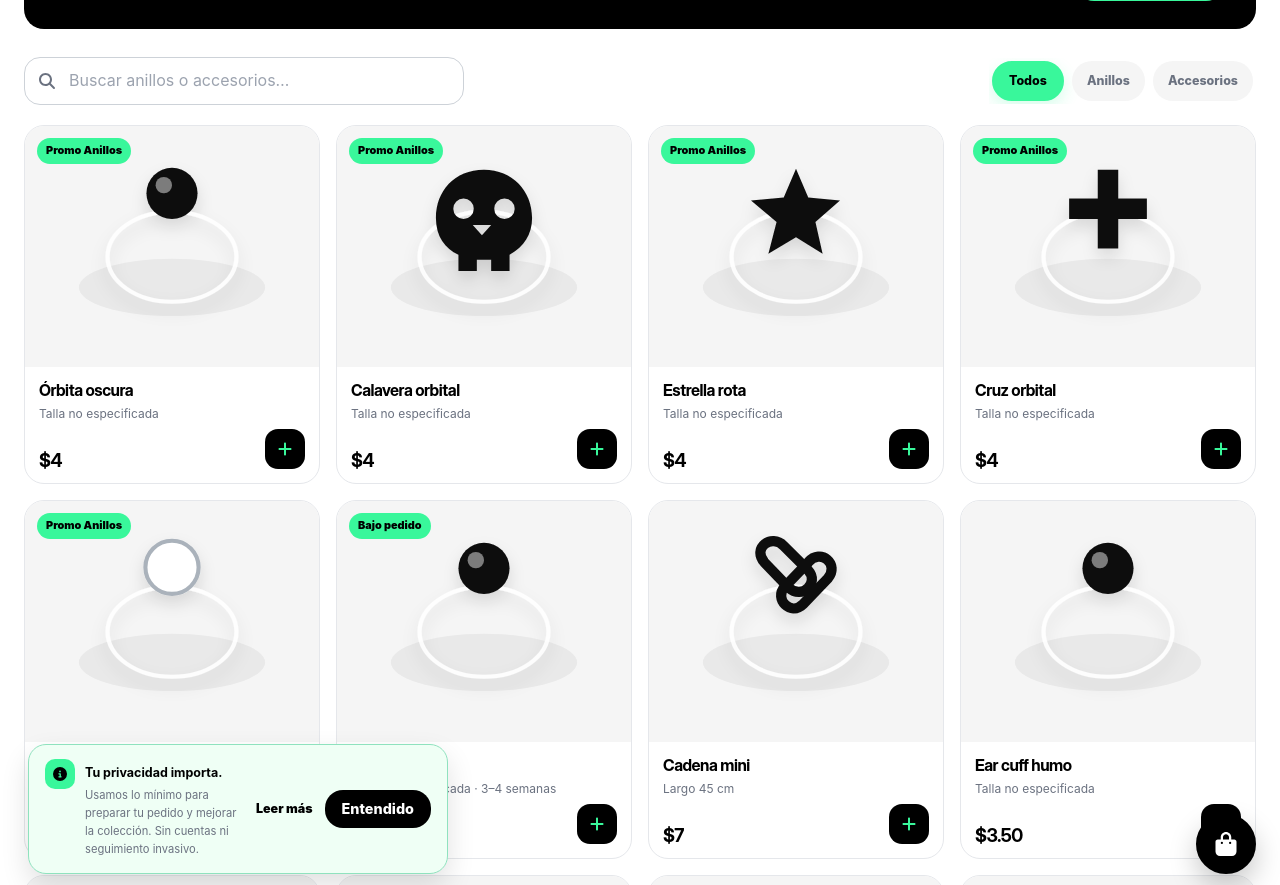
Store › clears the cart from the compact header action
(page scrolled)
Click the button named "agregar órbita oscura" at (285, 449), box [265, 429, 305, 469]
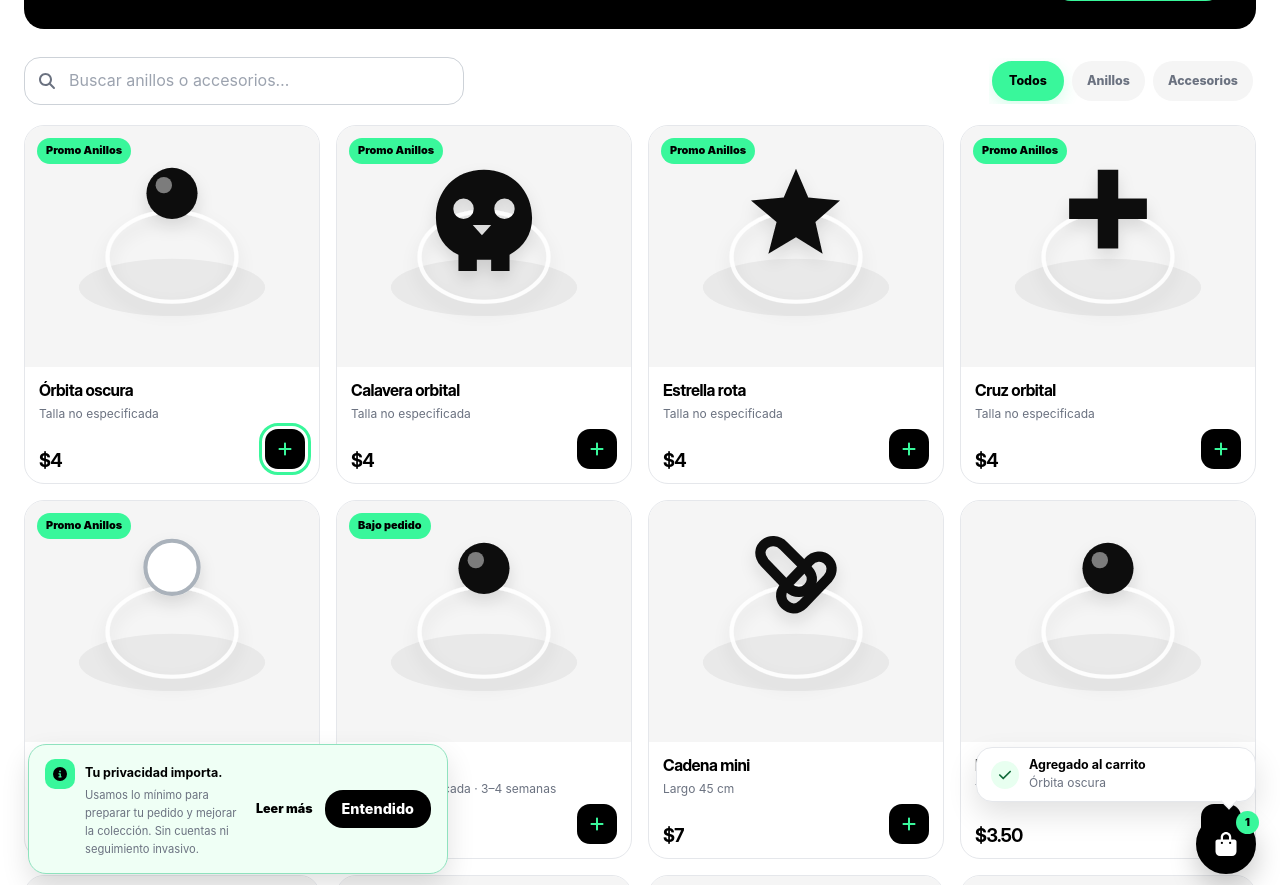
Click the button named "Abrir carrito" at (1226, 844), box [1196, 814, 1256, 874]
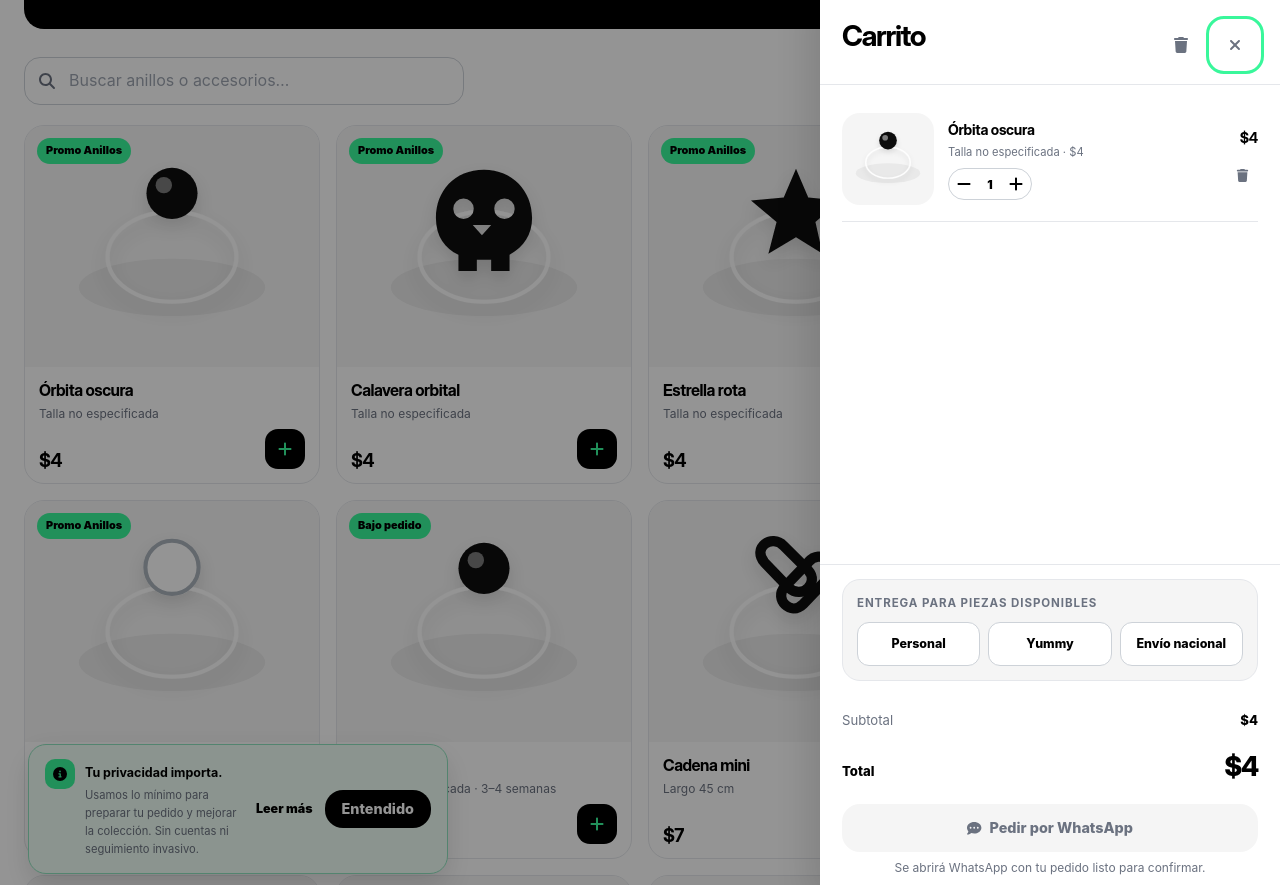
Click the button named "Vaciar carrito" at (1181, 45), box [1158, 22, 1204, 68]
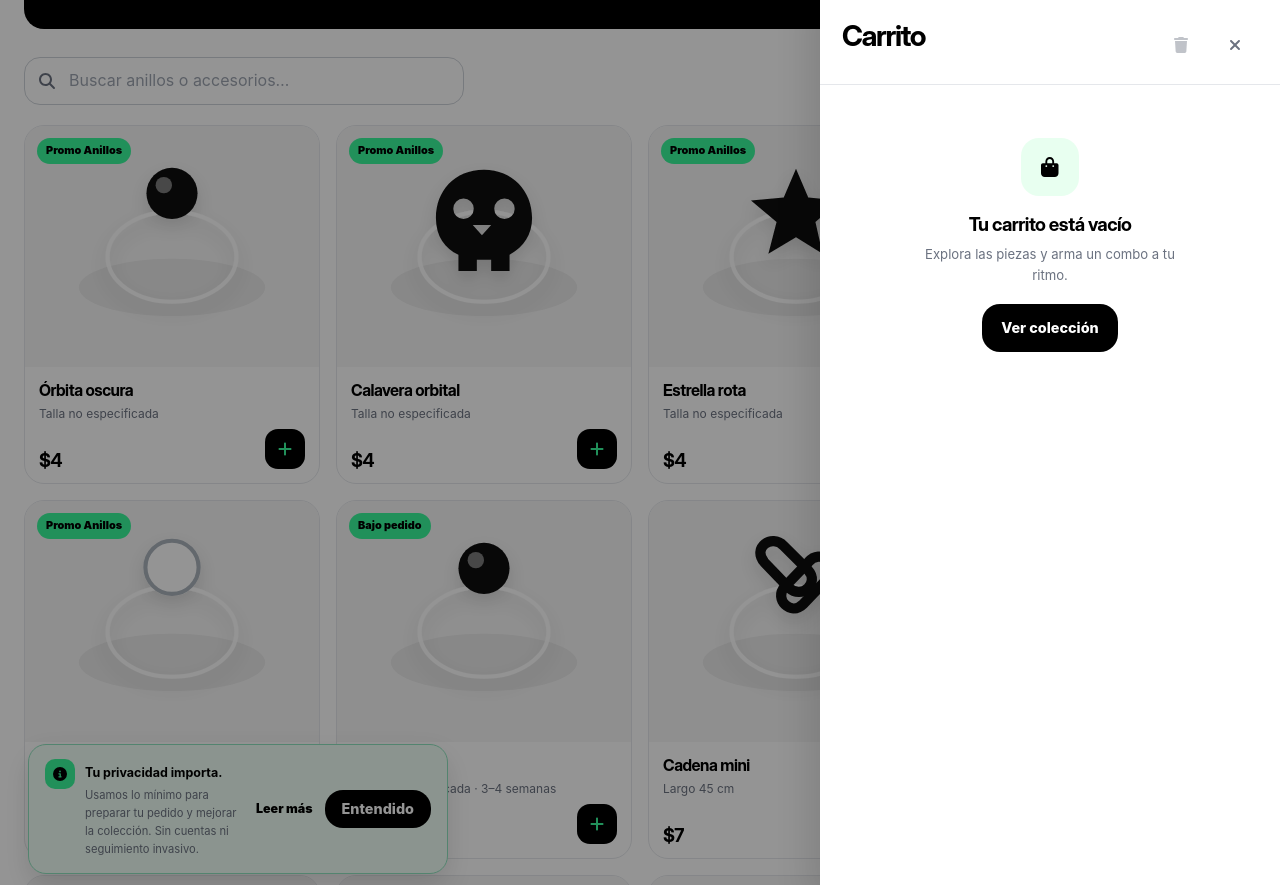
Check: the heading "Tu carrito está vacío" is shown, box [969, 210, 1131, 240]
Check: the button named "Vaciar carrito" is disabled, box [1158, 22, 1204, 68]
